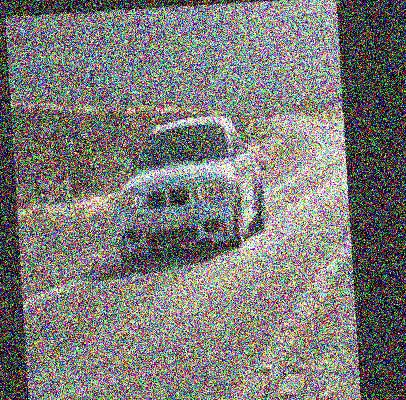car: (98, 88, 289, 276)
